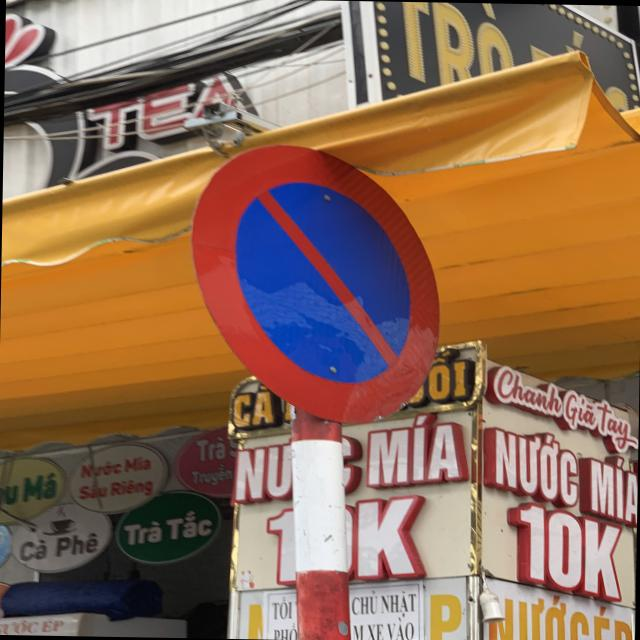Cam_Dau_Xe: (186, 141, 454, 423)
